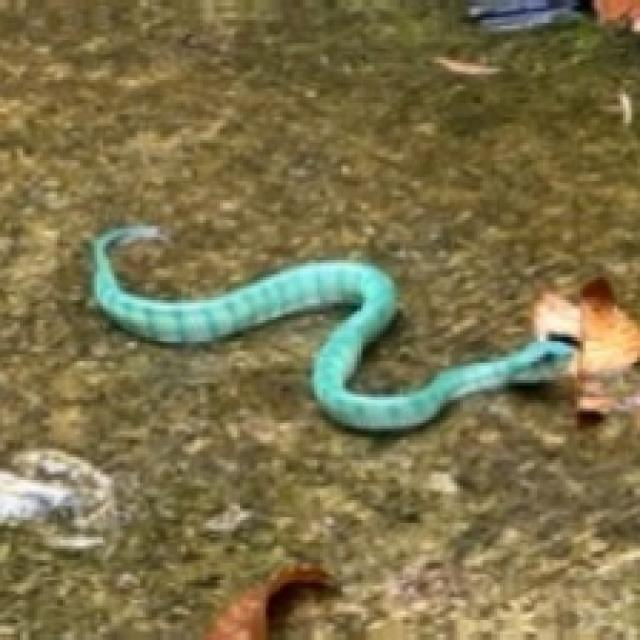north ph temple pitviper: (91, 226, 571, 429)
